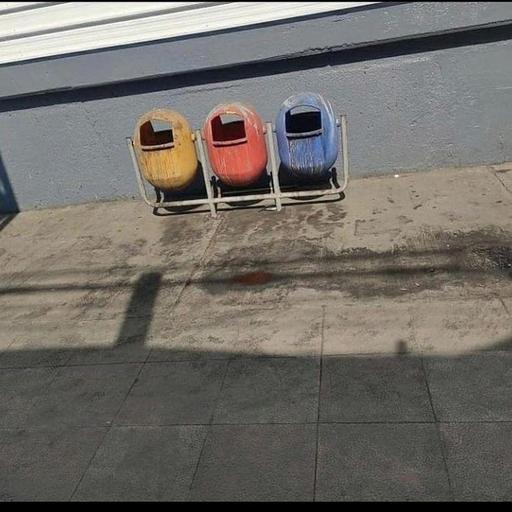Crewmate: (131, 107, 198, 192), (202, 101, 269, 186), (274, 91, 341, 176)
